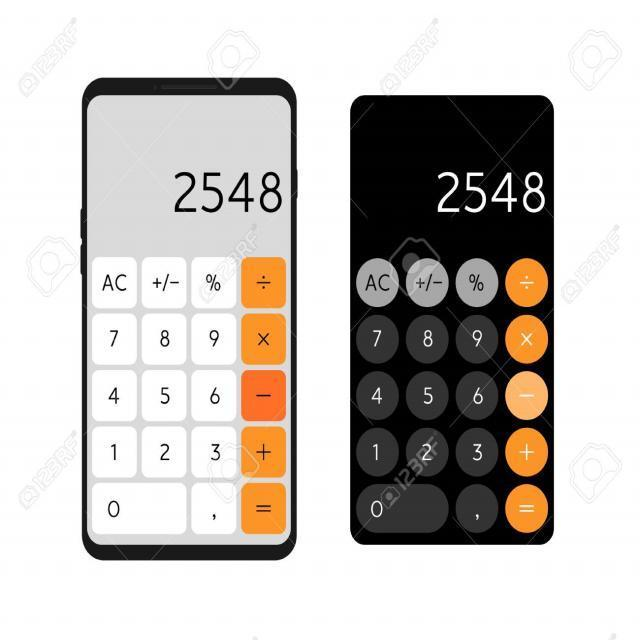Calculator: (78, 72, 298, 564), (346, 92, 558, 547)
